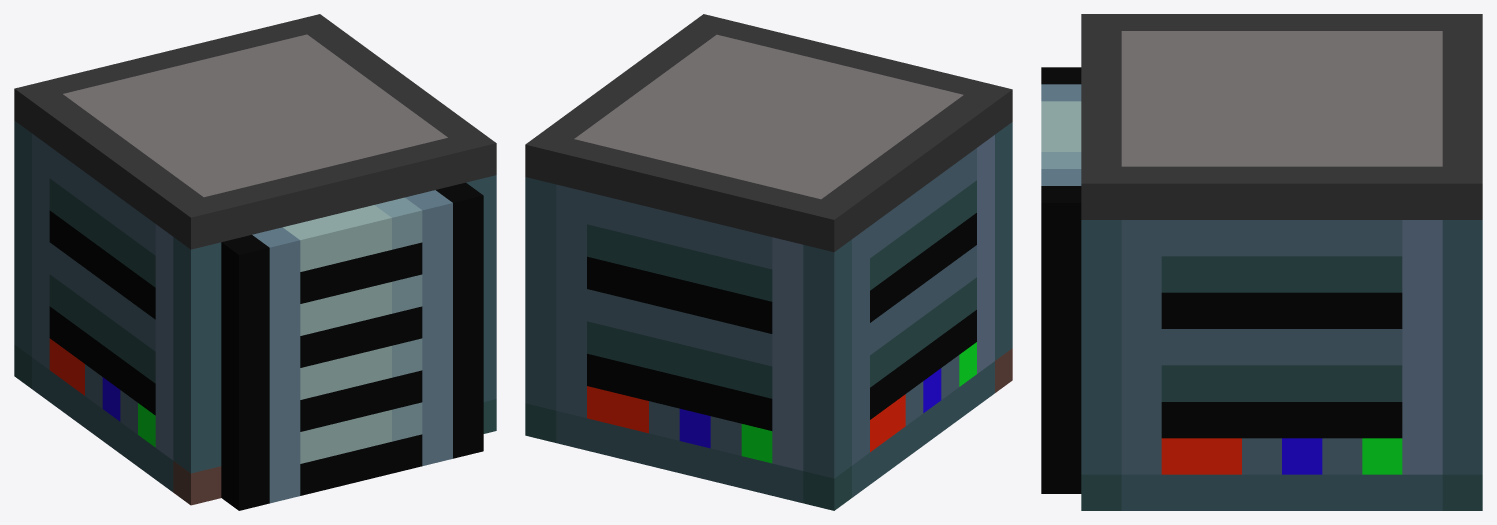
The model's file is turret.obj.
3 renders of one model, left to right at view 1: azimuth 30°, elevation 25°; view 2: azimuth 150°, elevation 25°; view 3: azimuth 270°, elevation 25°, orthographic. The views are drawn at different scales.
Size of the model in its own units: 1 by 0.9 by 1.1.
Materials: 1 (1 with a texture image).
